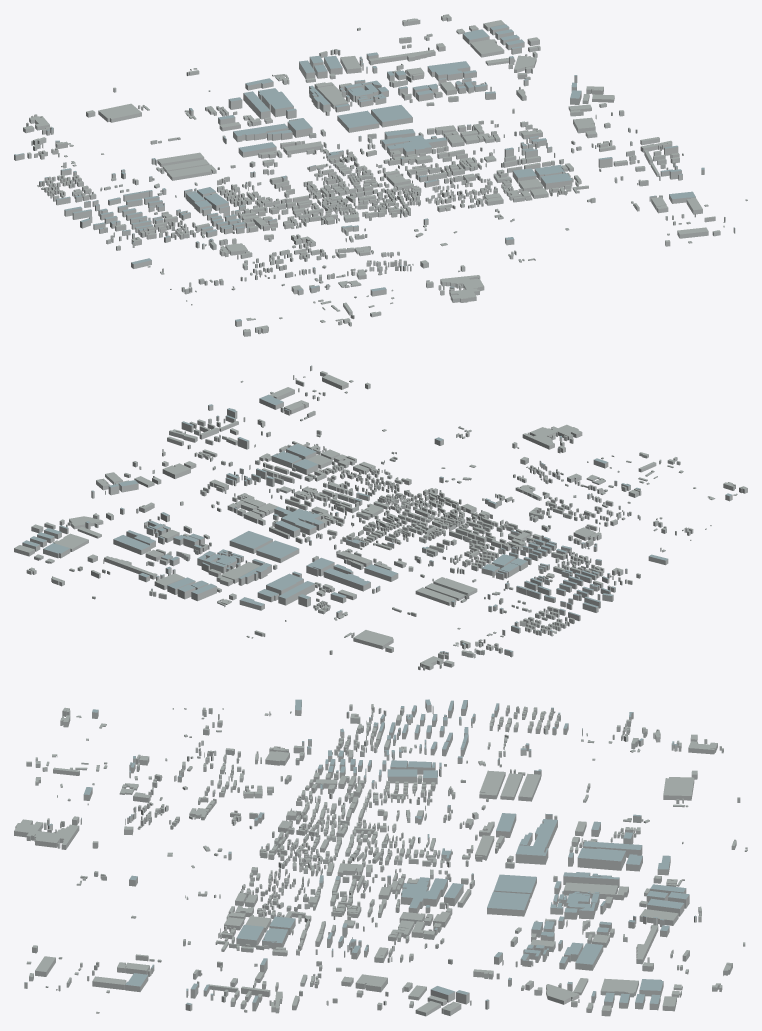
Rendered from far.glb.
The picture shows the model from 3 angles, top to bottom: view 1: azimuth 30°, elevation 25°; view 2: azimuth 150°, elevation 25°; view 3: azimuth 270°, elevation 25°; orthographic projection. The views are drawn at different scales.
Size of the model in its own units: 2143 by 32.56 by 2135.
